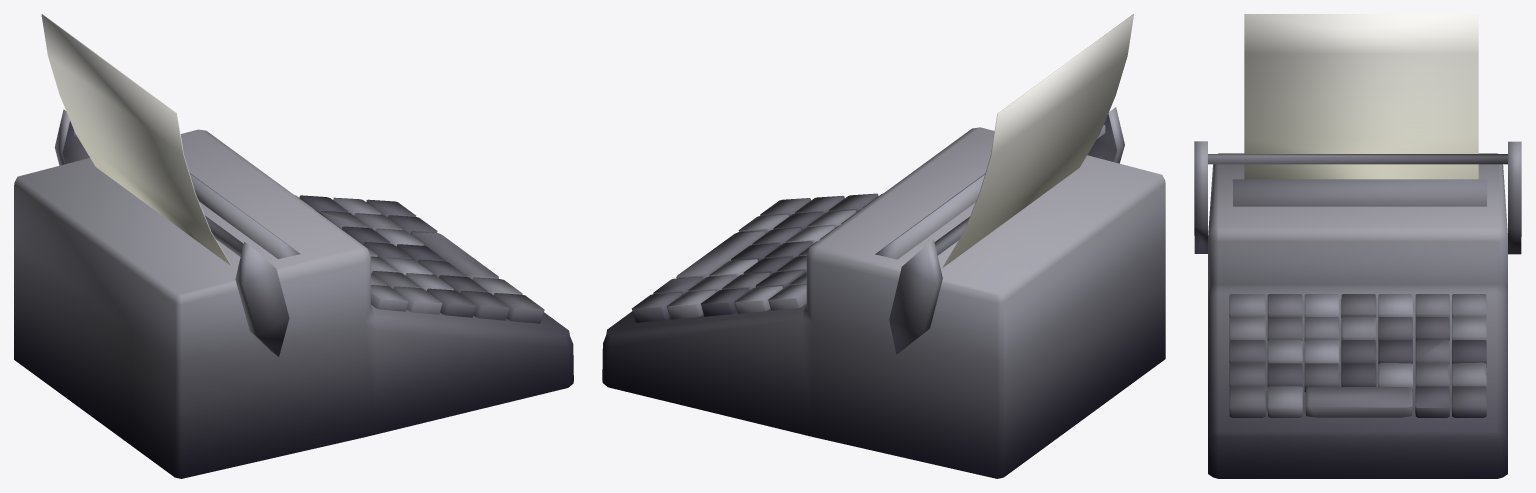
The model's file is mesh_typewriter_LOD1.fbx.
3 views of the same model, side by side, from view 1: azimuth 30°, elevation 25°; view 2: azimuth 150°, elevation 25°; view 3: azimuth 270°, elevation 25° (orthographic). The views are drawn at different scales.
Visible parts, largest first — view 1: type_writer_LOD1; view 2: type_writer_LOD1; view 3: type_writer_LOD1.
Part boxes in pixels (box(x1,y1,x2,y2)): type_writer_LOD1: box(14, 14, 573, 478); type_writer_LOD1: box(602, 14, 1165, 478); type_writer_LOD1: box(1194, 14, 1521, 478).
Bounding box in the file's own units: 69.13 × 57.95 × 56.64.
